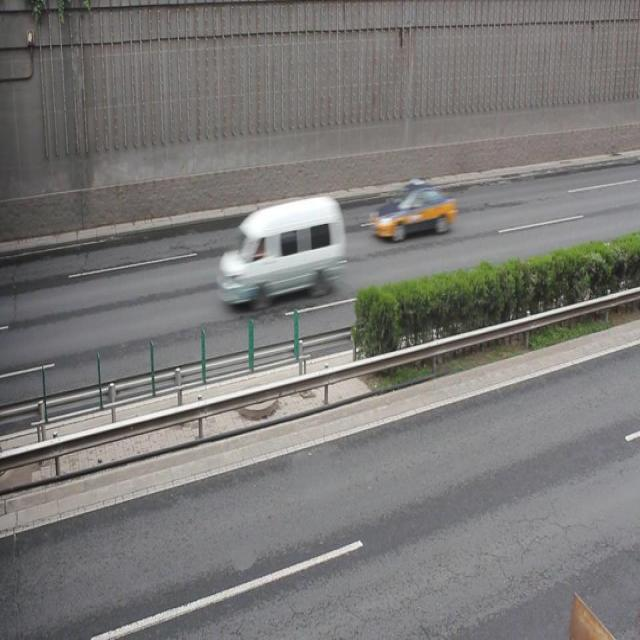car: (369, 183, 455, 241)
truck: (217, 196, 344, 306)
